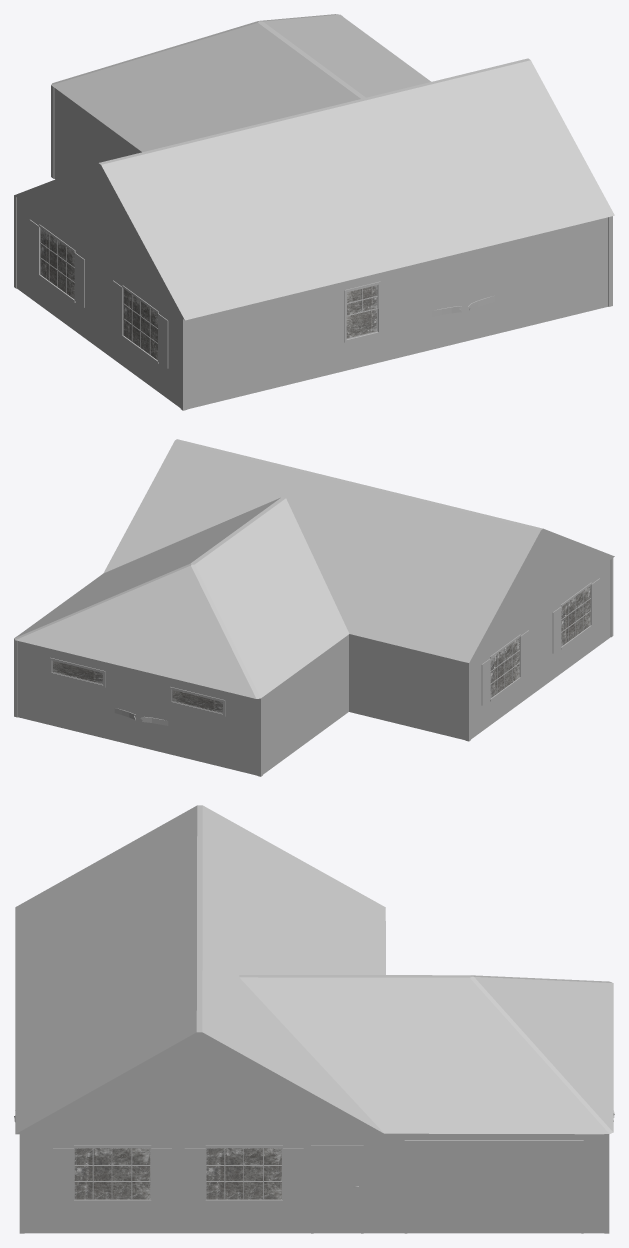
The model's file is Suburbs_house9.fbx.
3 views of the same model, one above another, from view 1: azimuth 30°, elevation 25°; view 2: azimuth 150°, elevation 25°; view 3: azimuth 270°, elevation 25° (orthographic). The views are drawn at different scales.
Parts seen in each view (by area): view 1: Cube.001, Cube.1792, Plane.661, Plane.662, Plane.667, Plane.664, Cube.1865, Cube.1864, Plane.663, Cube.1867, Cube.1866; view 2: Cube.001, Cube.1792, Plane.661, Plane.662, Plane.655, Plane.652; view 3: Cube.001, Cube.1792, Cube.002, Cube.1826, Cube.1823, Cube.1825, Cube.1824, Plane.657, Plane.658, Plane.656, Plane.659, Cube.1860 (+3 smaller).
Boxes of the visible parts, box(x1,y1,x2,y2) form: Cube.001: box(14, 14, 614, 320); Cube.1792: box(14, 14, 612, 410); Plane.661: box(40, 228, 74, 299); Plane.662: box(123, 295, 157, 360); Plane.667: box(347, 285, 377, 314); Plane.664: box(346, 309, 376, 337); Cube.1865: box(74, 252, 84, 307); Cube.1864: box(29, 219, 39, 274); Plane.663: box(123, 289, 157, 359); Cube.1867: box(112, 280, 122, 335); Cube.1866: box(158, 313, 168, 368); Cube.001: box(14, 439, 614, 698); Cube.1792: box(14, 558, 613, 776); Plane.661: box(490, 637, 519, 698); Plane.662: box(561, 585, 590, 646); Plane.655: box(172, 690, 222, 713); Plane.652: box(53, 661, 102, 683); Cube.001: box(15, 805, 613, 1134); Cube.1792: box(14, 907, 614, 1233); Cube.002: box(313, 1147, 360, 1232); Cube.1826: box(407, 1210, 581, 1232); Cube.1823: box(407, 1165, 581, 1187); Cube.1825: box(407, 1187, 581, 1209); Cube.1824: box(407, 1143, 581, 1164); Plane.657: box(74, 1148, 150, 1199); Plane.658: box(206, 1148, 281, 1199); Plane.656: box(74, 1148, 150, 1199); Plane.659: box(206, 1148, 281, 1199); Cube.1860: box(184, 1148, 205, 1200).
Size of the model in its own units: 1227 by 506 by 1369.
